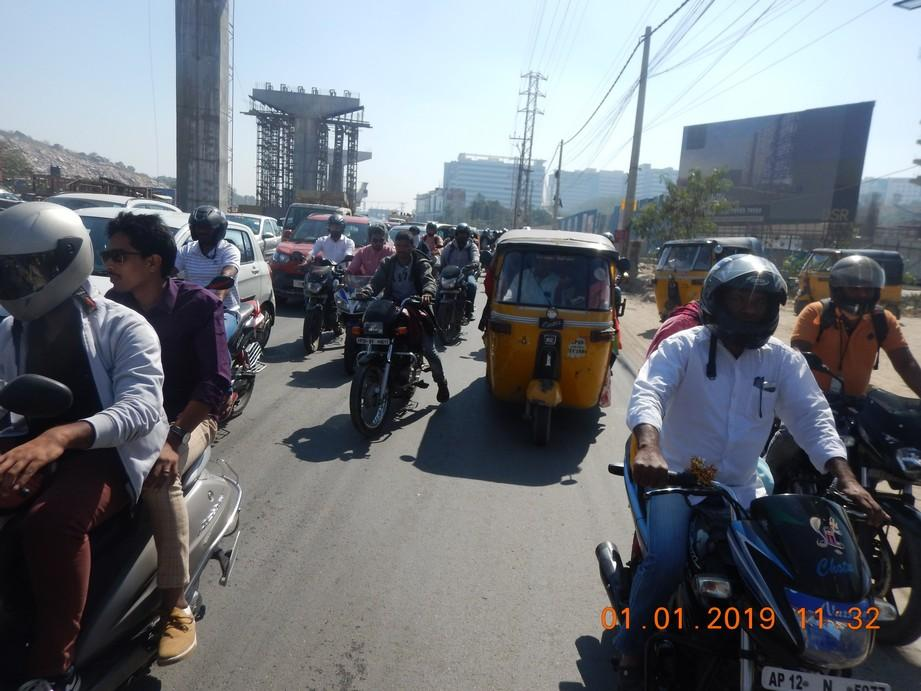plate: (355, 336, 391, 347)
